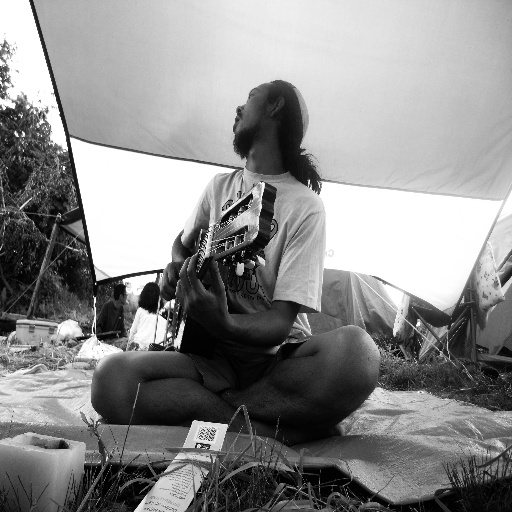hand: (175, 252, 229, 334), (159, 260, 183, 301)
